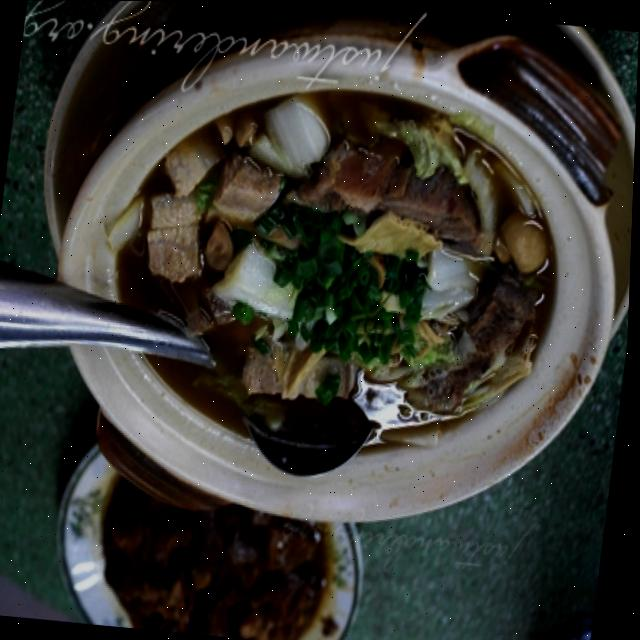汤锅炖物: (24, 31, 637, 562)
